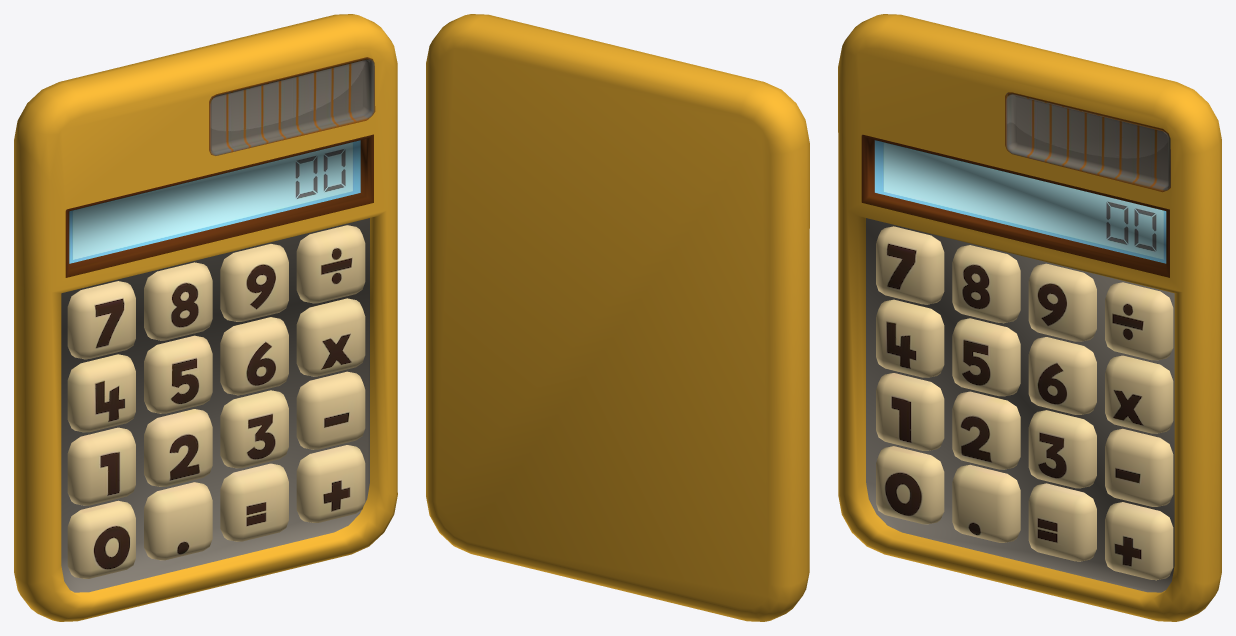
The model's file is Calculator.glb.
The picture shows the model from 3 angles, left to right: view 1: azimuth 30°, elevation 25°; view 2: azimuth 150°, elevation 25°; view 3: azimuth 330°, elevation 25°; orthographic projection.
Visible parts, largest first — view 1: Cube; view 2: Cube; view 3: Cube.
Part boxes in pixels (left/top/right/bottom): Cube: left=14, top=14, right=397, bottom=621; Cube: left=426, top=14, right=809, bottom=621; Cube: left=838, top=14, right=1221, bottom=621.
Size of the model in its own units: 3.45 by 4.73 by 0.4959.
2 materials, 2 textured.
